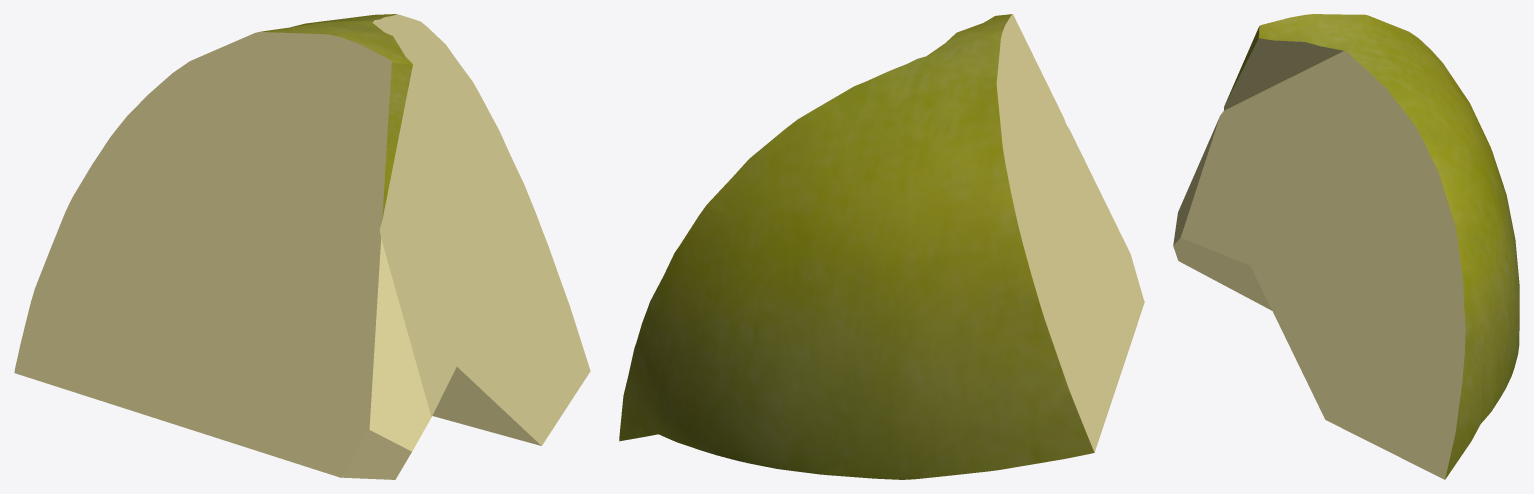
The model's file is SM_Consumable_Apple_01_004.fbx.
3 renders of one model, left to right at view 1: azimuth 30°, elevation 25°; view 2: azimuth 150°, elevation 25°; view 3: azimuth 270°, elevation 25°, orthographic. The views are drawn at different scales.
Visible parts, largest first — view 1: SM_Consumable_Apple_01.004; view 2: SM_Consumable_Apple_01.004; view 3: SM_Consumable_Apple_01.004.
Boxes of the visible parts, x1,y1,x2,y2 form: SM_Consumable_Apple_01.004: (14,14,590,479); SM_Consumable_Apple_01.004: (619,14,1144,479); SM_Consumable_Apple_01.004: (1173,14,1519,479).
Bounding box in the file's own units: 0.0433 × 0.036 × 0.0327.
